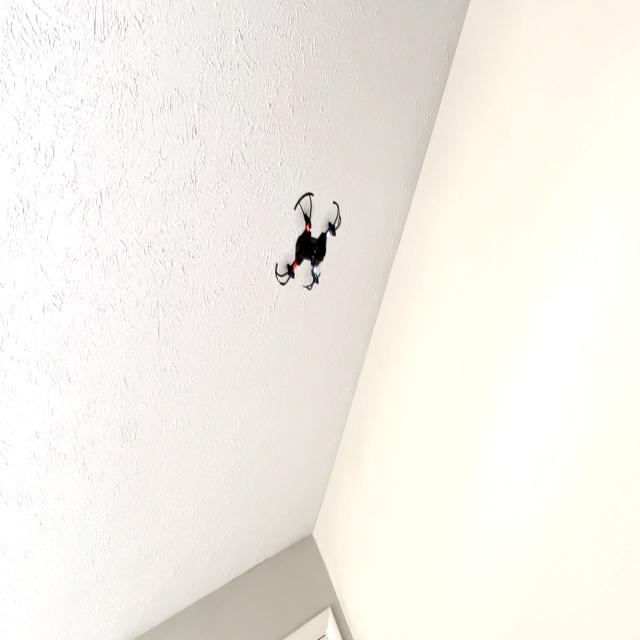drone: (268, 182, 348, 307)
